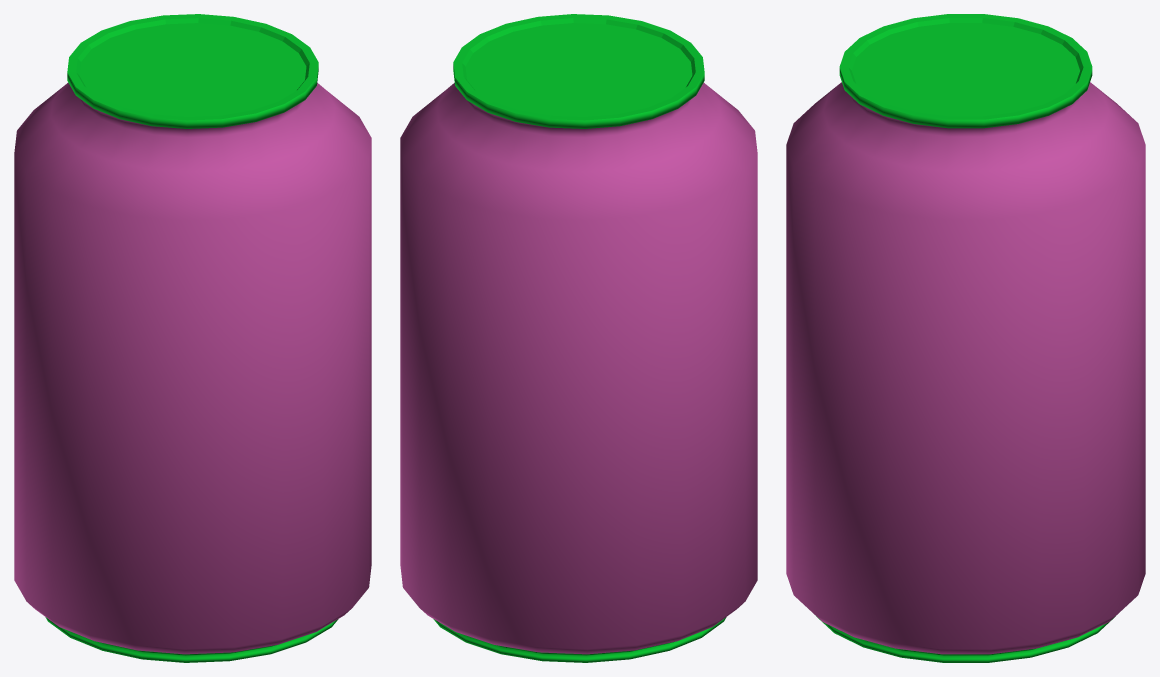
Rendered from EnergyDrink.fbx.
3 views of the same model, side by side, from view 1: azimuth 30°, elevation 25°; view 2: azimuth 150°, elevation 25°; view 3: azimuth 270°, elevation 25° (orthographic).
Parts seen in each view (by area): view 1: Energydrink; view 2: Energydrink; view 3: Energydrink.
Boxes of the visible parts, x1=… form: Energydrink: x1=14, y1=14, x2=371, y2=662; Energydrink: x1=400, y1=14, x2=757, y2=662; Energydrink: x1=786, y1=14, x2=1145, y2=662.
Size of the model in its own units: 0.7742 by 1.27 by 0.7821.
